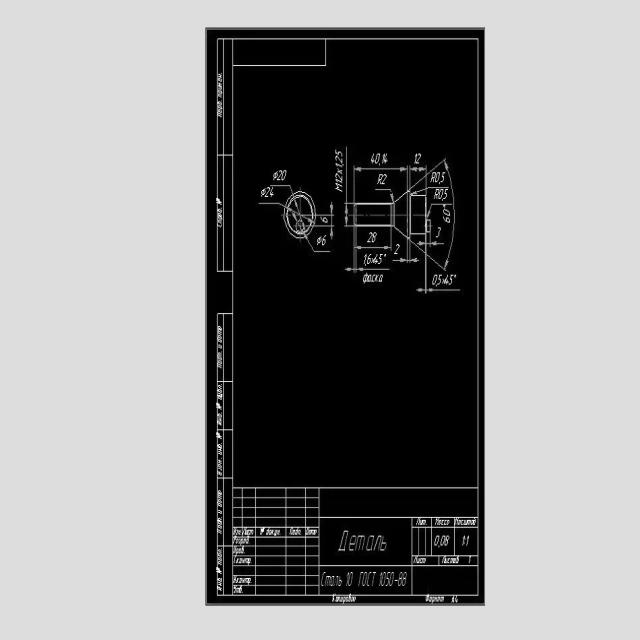marking_line: (396, 158, 457, 295), (413, 234, 462, 294), (344, 227, 390, 274), (353, 164, 408, 202), (353, 228, 392, 253), (316, 202, 333, 242), (303, 232, 333, 254), (345, 147, 353, 228), (409, 165, 427, 195), (427, 202, 452, 218), (393, 250, 420, 263), (416, 235, 445, 246), (375, 187, 395, 202)
numeric: (375, 152, 381, 164), (416, 152, 422, 164), (440, 172, 446, 183), (394, 244, 400, 255), (265, 187, 271, 198), (443, 216, 451, 224), (335, 149, 343, 157), (335, 173, 344, 180), (382, 173, 387, 185), (377, 174, 383, 184), (436, 226, 441, 238), (378, 253, 383, 265), (321, 234, 326, 246), (444, 209, 451, 217), (336, 155, 343, 163), (382, 153, 387, 164), (449, 274, 454, 285), (438, 274, 443, 285), (432, 274, 437, 285), (372, 232, 377, 243), (367, 232, 372, 243), (367, 253, 372, 264), (435, 172, 440, 182), (443, 189, 448, 199), (439, 189, 444, 199), (281, 170, 286, 180), (321, 216, 328, 223), (370, 153, 374, 164), (434, 188, 438, 199), (363, 253, 367, 264), (271, 186, 275, 197), (431, 172, 435, 182), (277, 170, 281, 180), (335, 163, 343, 168), (375, 253, 378, 264), (335, 179, 342, 183), (414, 153, 416, 163), (372, 258, 375, 264)
special_symbol: (442, 275, 448, 285), (261, 188, 266, 198), (273, 171, 278, 181), (316, 236, 321, 245), (454, 273, 456, 278), (443, 205, 446, 208), (384, 253, 386, 257)
